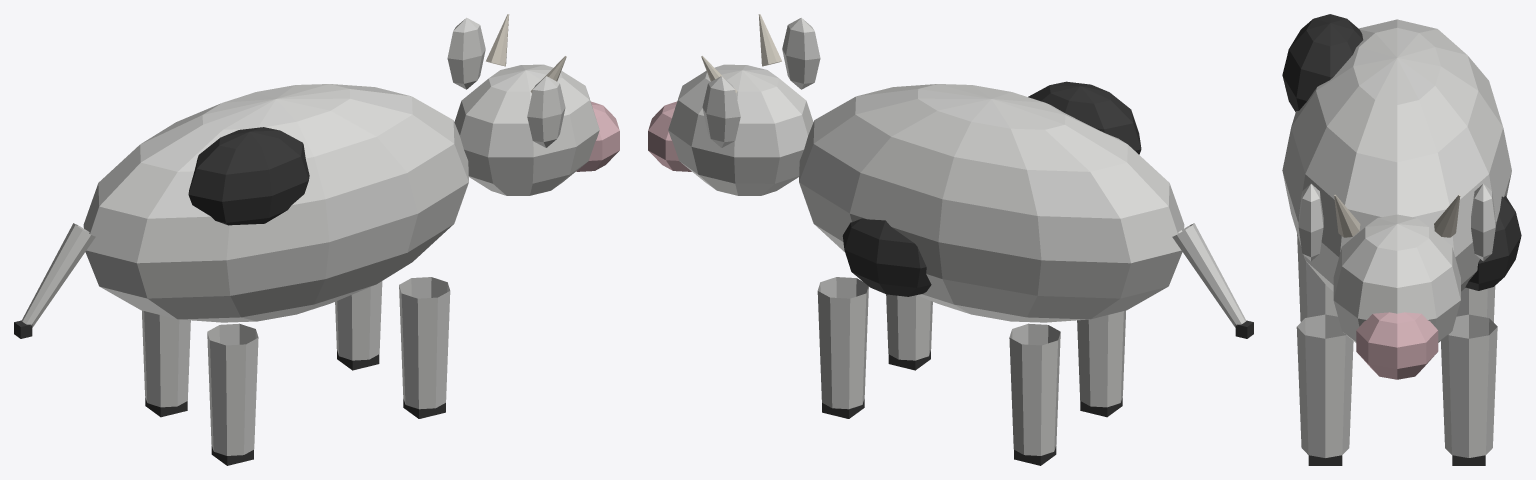
The model's file is cow.glb.
3 renders of one model, left to right at view 1: azimuth 30°, elevation 25°; view 2: azimuth 150°, elevation 25°; view 3: azimuth 270°, elevation 25°, orthographic. The views are drawn at different scales.
Visible parts, largest first — view 1: cow; view 2: cow; view 3: cow.
Part boxes in pixels (x1,y1,x2,y2): cow: (14, 14, 619, 465); cow: (648, 14, 1253, 465); cow: (1282, 14, 1521, 465).
Bounding box in the file's own units: 15 × 7.64 × 4.81.
